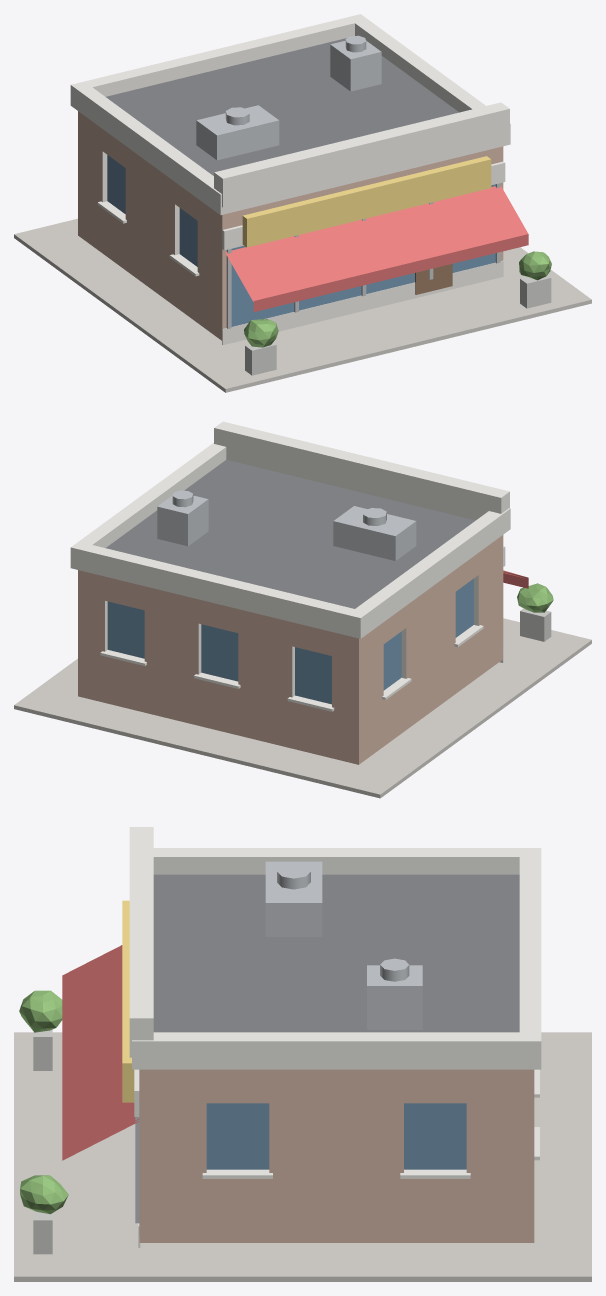
3 renders of one model, top to bottom at view 1: azimuth 30°, elevation 25°; view 2: azimuth 150°, elevation 25°; view 3: azimuth 270°, elevation 25°, orthographic. The views are drawn at different scales.
Visible parts, largest first — view 1: c_1_1_d; view 2: c_1_1_d; view 3: c_1_1_d.
Part boxes in pixels (x1,y1,x2,y2): c_1_1_d: (14,14,591,392); c_1_1_d: (14,421,591,798); c_1_1_d: (14,827,591,1281).
Bounding box in the file's own units: 12 × 5.79 × 12.
